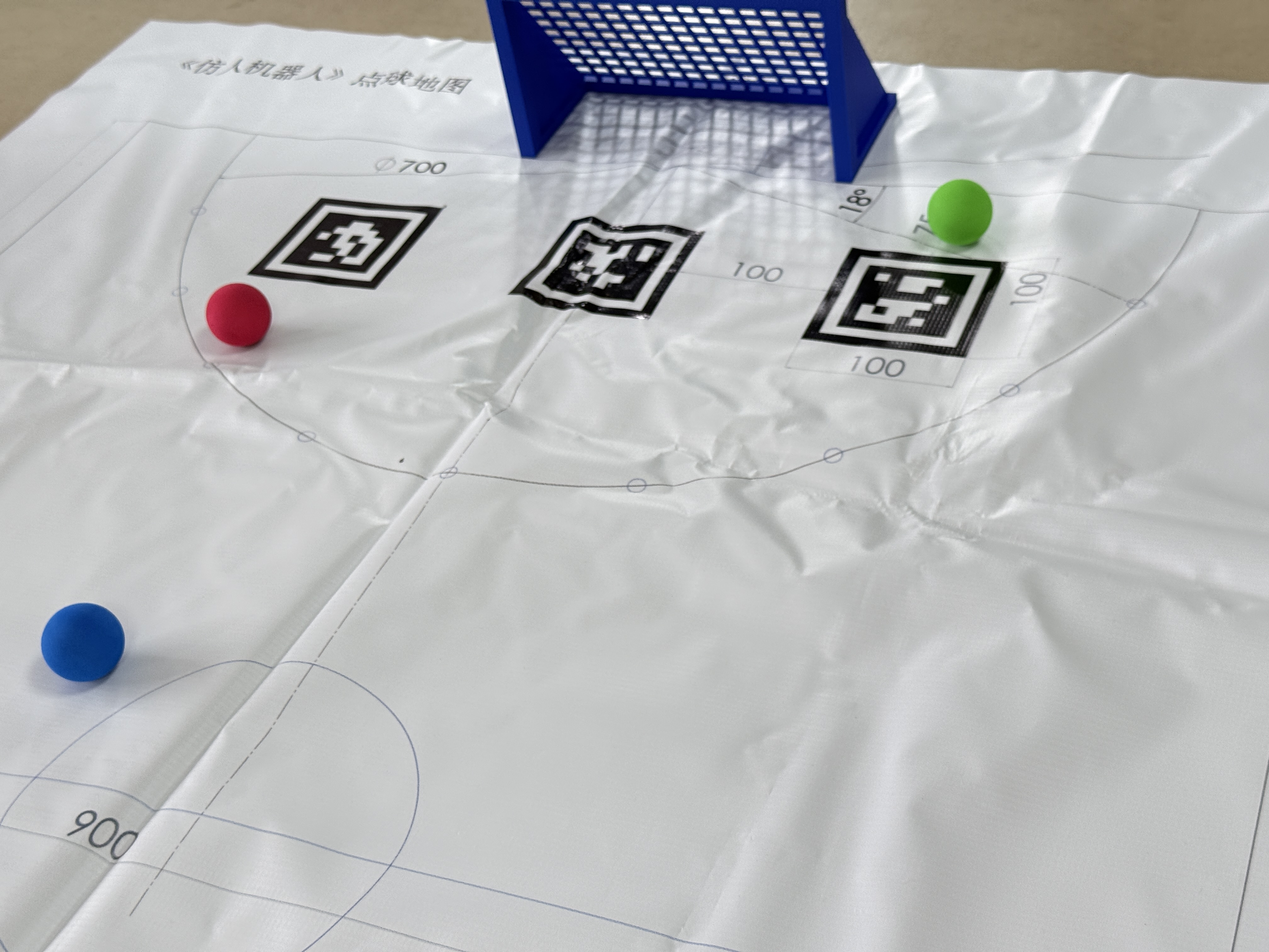biggoal: (489, 1, 899, 188)
blueball: (41, 601, 128, 686)
greenball: (926, 177, 993, 249)
redball: (205, 282, 273, 352)
